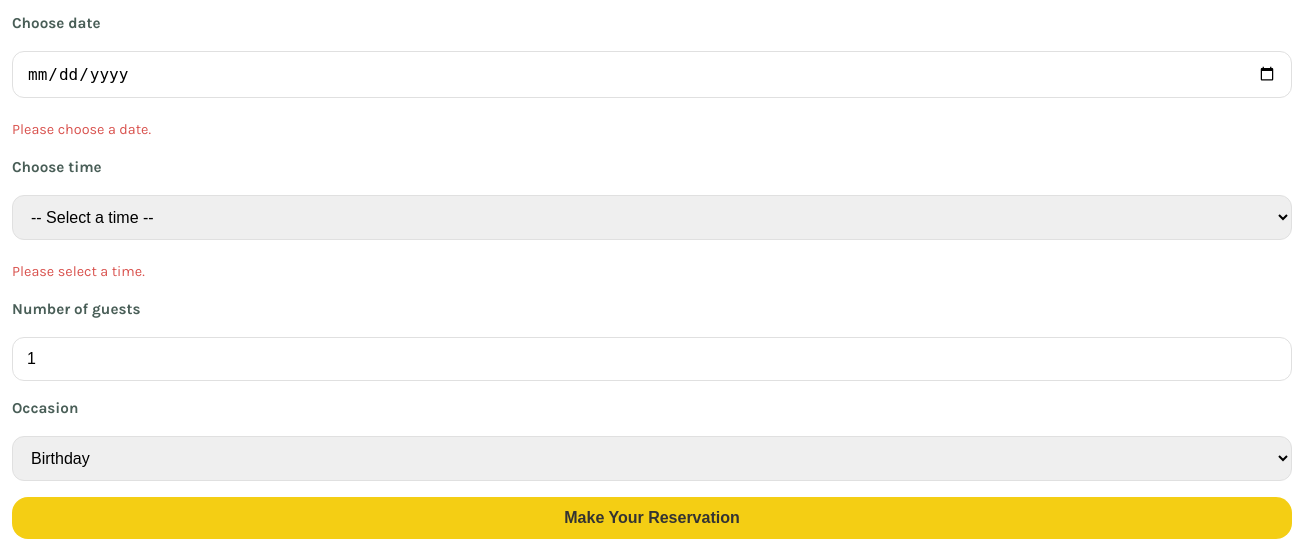
Scenario: BookingForm › shows error for past date
The width and height of the screenshot is (1304, 556).
Type "2000-01-01" into the date field labelled "Choose date" at (652, 74), box [12,51,1292,98]
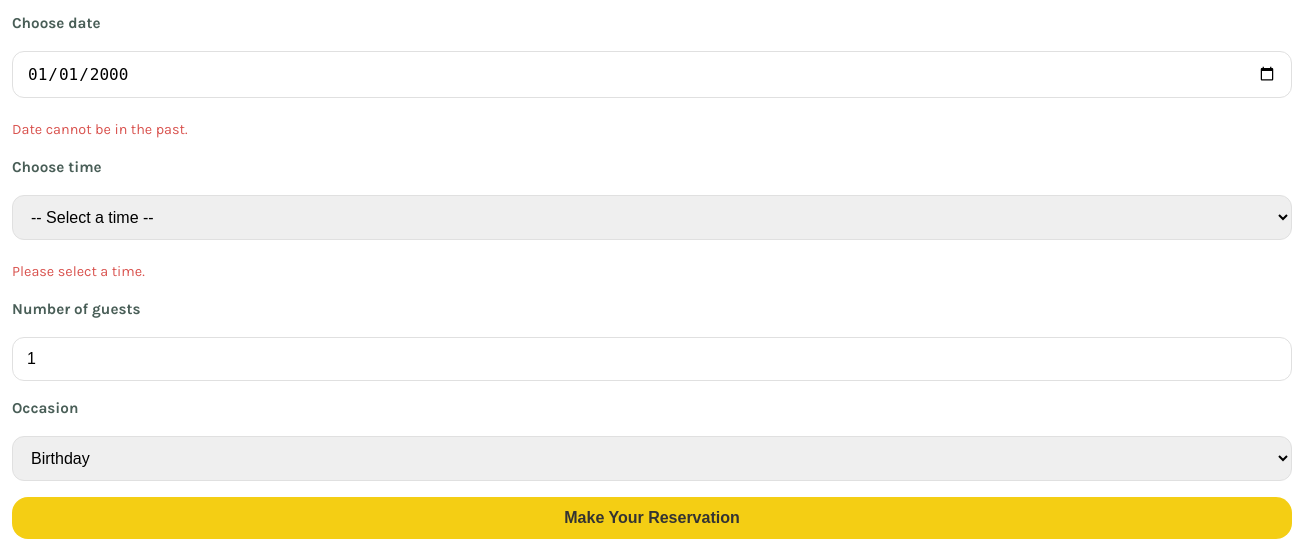
Expected: the text "Date cannot be in the past." is shown, [12,121,188,138]
